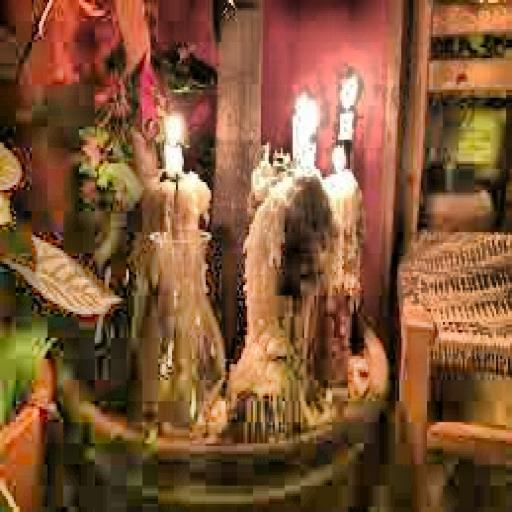fire: (291, 80, 316, 122), (336, 71, 360, 111), (158, 111, 182, 148)
